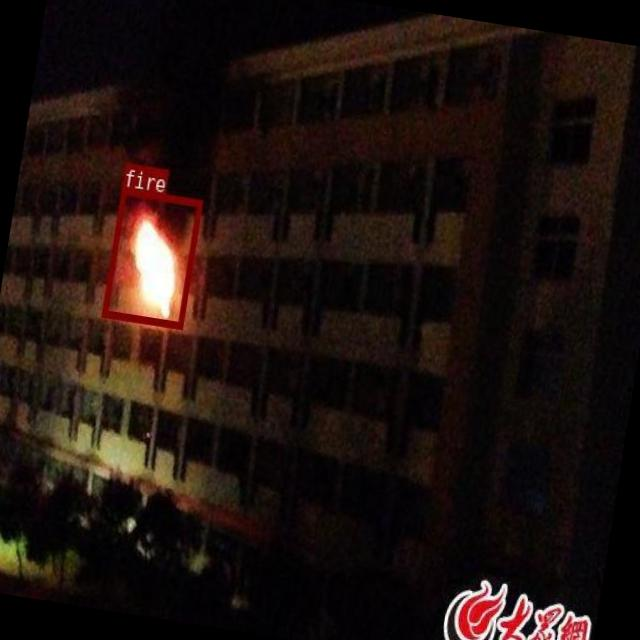fire: (101, 186, 201, 328)
